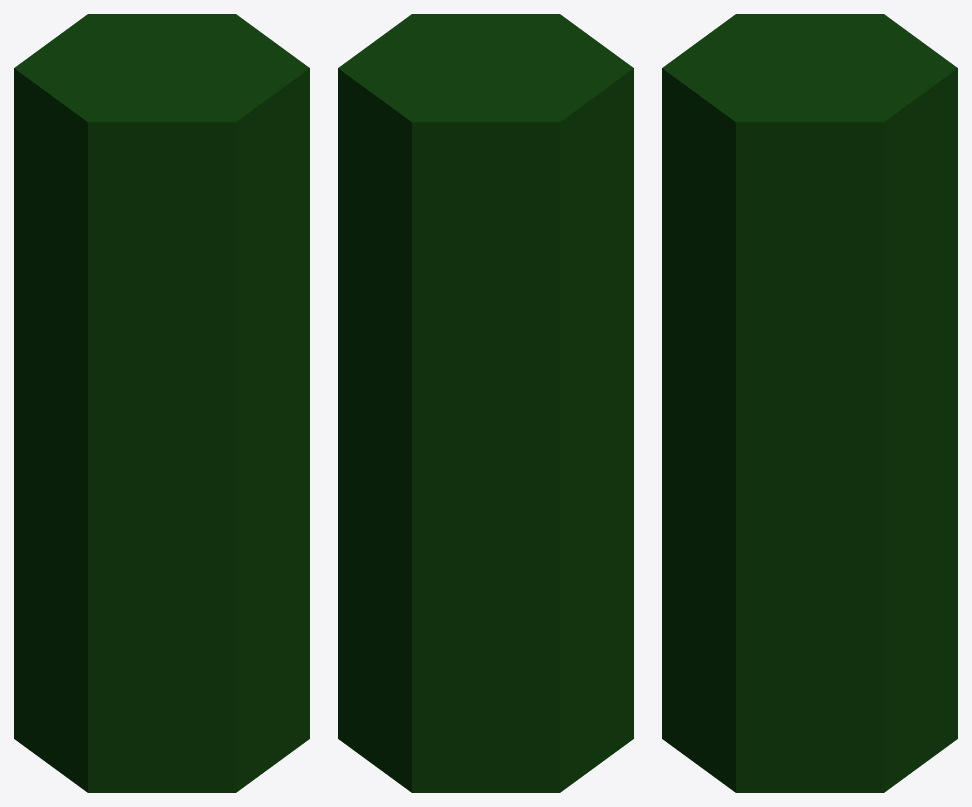
3 views of the same model, side by side, from view 1: azimuth 30°, elevation 25°; view 2: azimuth 150°, elevation 25°; view 3: azimuth 270°, elevation 25° (orthographic).
Visible parts, largest first — view 1: 沼泽; view 2: 沼泽; view 3: 沼泽.
Part boxes in pixels (x1,y1,x2,y2): 沼泽: (14,14,309,792); 沼泽: (338,14,633,792); 沼泽: (662,14,957,792).
Size of the model in its own units: 400 by 346 by 1000.
